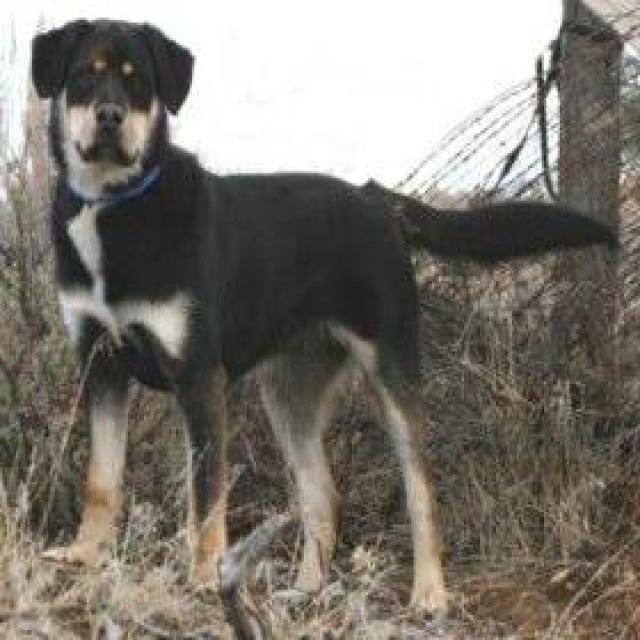dog: (28, 15, 620, 622)
